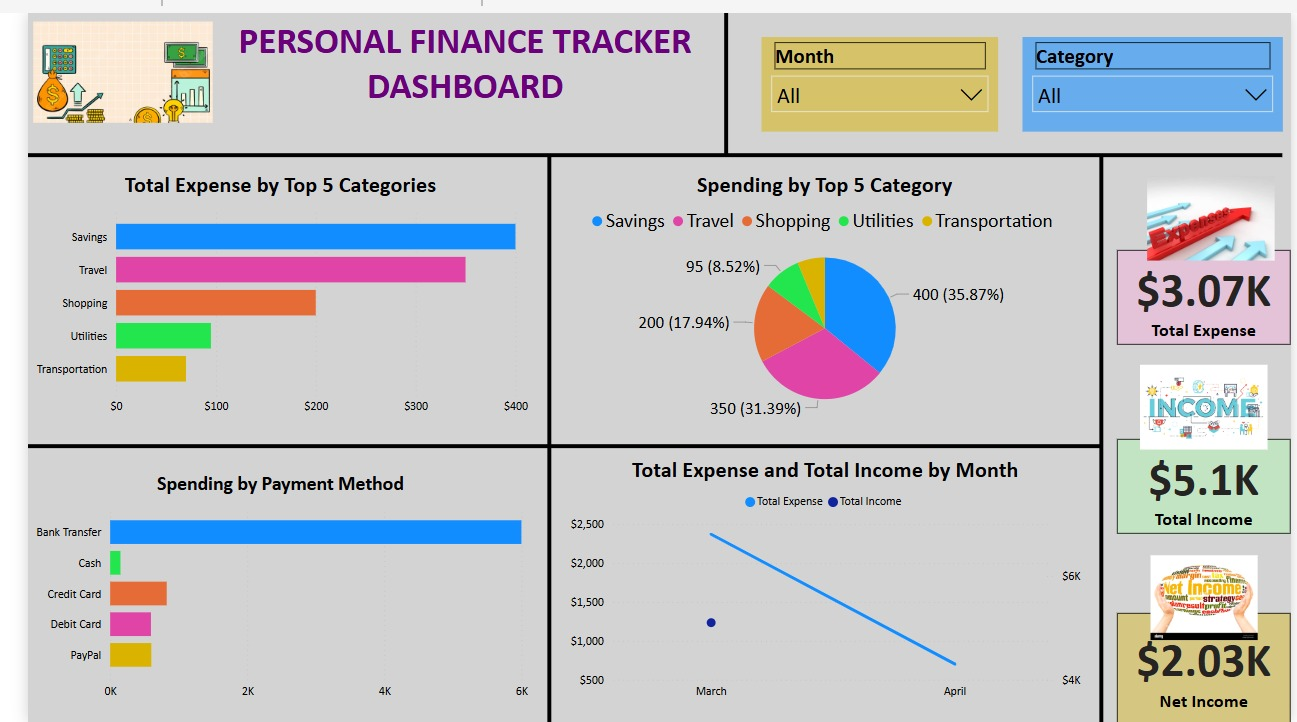

The dashboard page shown, as its layout file describes it:
{"tool":"powerbi","page":{"name":"Page 1","canvas":[1280,720],"ordinal":0},"visuals":[{"type":"textbox","box":[168,0,552,120],"z":0},{"type":"image","box":[0,0,192,120],"z":1000},{"type":"card","fields":{"Values":["All Measures.Total Income"]},"box":[1104,432,176,96],"z":2000},{"type":"card","fields":{"Values":["All Measures.Total Expense"]},"box":[1104,240,176,96],"z":3000},{"type":"card","fields":{"Values":["All Measures.Net Income"]},"box":[1104,608,176,112],"z":4000},{"type":"shape","box":[0,120,1272,48],"z":5000},{"type":"slicer","fields":{"Values":["Financial Data.Category"]},"box":[1008,24,264,96],"z":6000},{"type":"slicer","fields":{"Values":["Financial Data.Date.Variation.Date Hierarchy.Month"]},"box":[744,24,240,96],"z":7000},{"type":"shape","box":[648,0,120,144],"z":8000},{"type":"clusteredBarChart","title":"Total Expense by Top 5 Categories","fields":{"Category":["Financial Data.Category"],"Y":["All Measures.Total Expense"]},"box":[0,160,512,256],"z":9000},{"type":"pieChart","title":"Spending by Top 5 Category","fields":{"Category":["Financial Data.Category"],"Y":["Sum(Financial Data.Amount)"]},"box":[528,160,560,256],"z":10000},{"type":"barChart","title":"Spending by Payment Method","fields":{"Category":["Financial Data.Payment Method"],"Y":["Sum(Financial Data.Amount)"]},"box":[0,464,512,240],"z":11000},{"type":"lineChart","fields":{"Y":["All Measures.Total Expense"],"Y2":["All Measures.Total Income"],"Category":["Financial Data.Date.Variation.Date Hierarchy.Month"]},"box":[544,448,528,256],"z":12000},{"type":"shape","box":[480,144,96,576],"z":12001},{"type":"shape","box":[0,416,1088,48],"z":12002},{"type":"shape","box":[1040,144,96,576],"z":12003},{"type":"image","box":[1120,160,160,96],"z":12004},{"type":"image","box":[1104,352,176,96],"z":12005},{"type":"image","box":[1104,544,176,96],"z":12006}]}

Visuals, with their boxes in screenshot pixels (x1, y1, x2, y2), scaled from the page's 1280x720 canvas onto the 1297x722 screenshot:
textbox: <bbox>170, 0, 730, 120</bbox>
image: <bbox>0, 0, 195, 120</bbox>
card - All Measures.Total Income: <bbox>1119, 433, 1296, 529</bbox>
card - All Measures.Total Expense: <bbox>1119, 241, 1296, 337</bbox>
card - All Measures.Net Income: <bbox>1119, 610, 1296, 721</bbox>
shape: <bbox>0, 120, 1289, 168</bbox>
slicer - Financial Data.Category: <bbox>1021, 24, 1289, 120</bbox>
slicer - Financial Data.Date.Variation.Date Hierarchy.Month: <bbox>754, 24, 997, 120</bbox>
shape: <bbox>657, 0, 778, 144</bbox>
"Total Expense by Top 5 Categories" clusteredBarChart: <bbox>0, 160, 519, 417</bbox>
"Spending by Top 5 Category" pieChart: <bbox>535, 160, 1102, 417</bbox>
"Spending by Payment Method" barChart: <bbox>0, 465, 519, 706</bbox>
lineChart - All Measures.Total Expense x All Measures.Total Income: <bbox>551, 449, 1086, 706</bbox>
shape: <bbox>486, 144, 584, 721</bbox>
shape: <bbox>0, 417, 1102, 465</bbox>
shape: <bbox>1054, 144, 1151, 721</bbox>
image: <bbox>1135, 160, 1296, 257</bbox>
image: <bbox>1119, 353, 1296, 449</bbox>
image: <bbox>1119, 546, 1296, 642</bbox>
